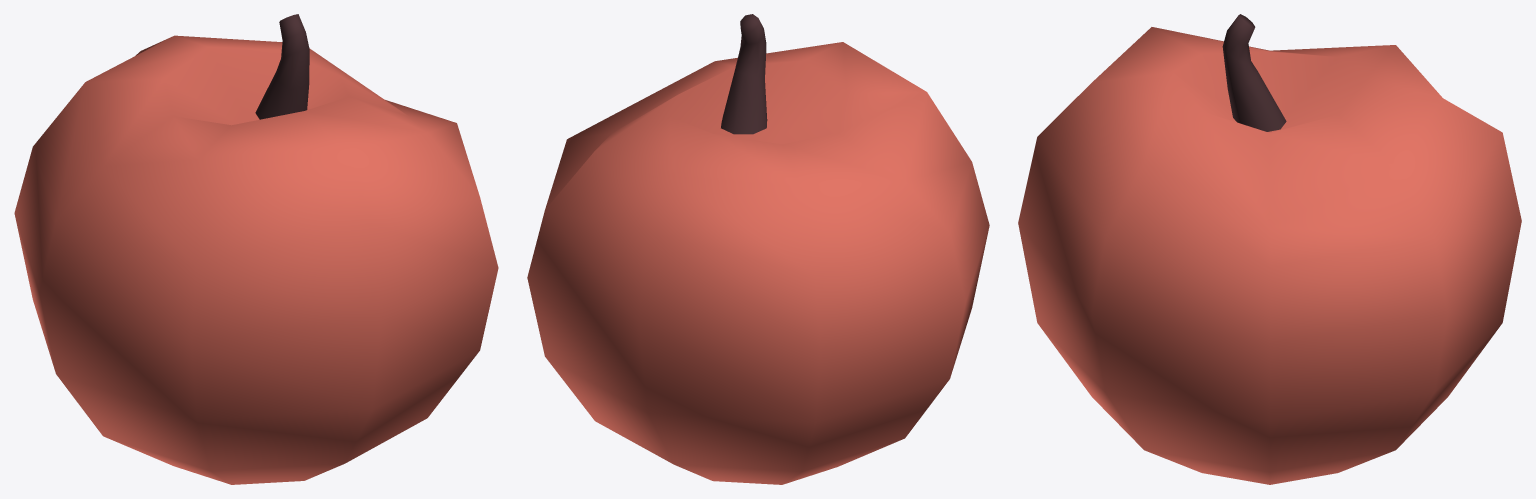
Rendered from SM_Apple.fbx.
The picture shows the model from 3 angles, left to right: view 1: azimuth 30°, elevation 25°; view 2: azimuth 150°, elevation 25°; view 3: azimuth 270°, elevation 25°; orthographic projection. The views are drawn at different scales.
Visible parts, largest first — view 1: Sphere.002, Cylinder.016; view 2: Sphere.002, Cylinder.016; view 3: Sphere.002, Cylinder.016.
Boxes of the visible parts, x1,y1,x2,y2 form: Sphere.002: [14, 35, 498, 484]; Cylinder.016: [255, 14, 309, 119]; Sphere.002: [527, 42, 989, 484]; Cylinder.016: [721, 14, 767, 134]; Sphere.002: [1018, 27, 1521, 484]; Cylinder.016: [1222, 14, 1286, 131].
Size of the model in its own units: 23.29 by 22.98 by 23.29.
